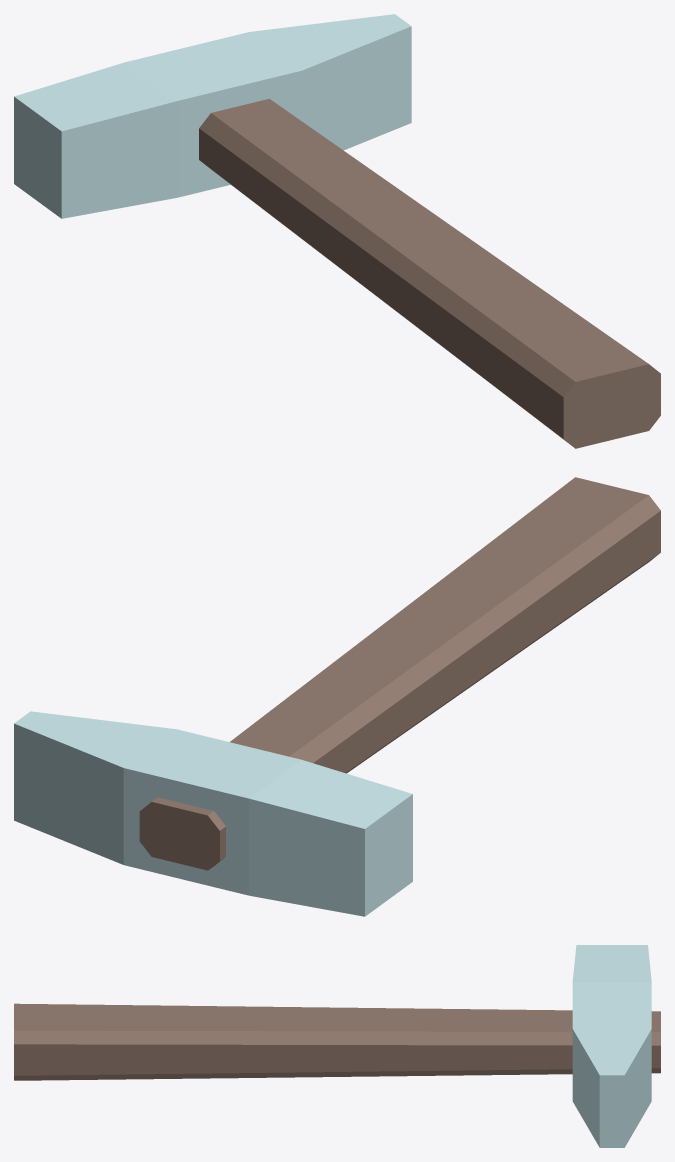
File: hammer.glb
3 renders of one model, top to bottom at view 1: azimuth 30°, elevation 25°; view 2: azimuth 150°, elevation 25°; view 3: azimuth 270°, elevation 25°, orthographic. The views are drawn at different scales.
Visible parts, largest first — view 1: Box004_Material #32_0; view 2: Box004_Material #32_0; view 3: Box004_Material #32_0.
Part boxes in pixels (left/top/right/bottom): Box004_Material #32_0: left=14, top=14, right=660, bottom=448; Box004_Material #32_0: left=14, top=477, right=660, bottom=916; Box004_Material #32_0: left=14, top=945, right=660, bottom=1147.
Bounding box in the file's own units: 9.94 × 2.52 × 20.31.
1 material, 1 textured.
